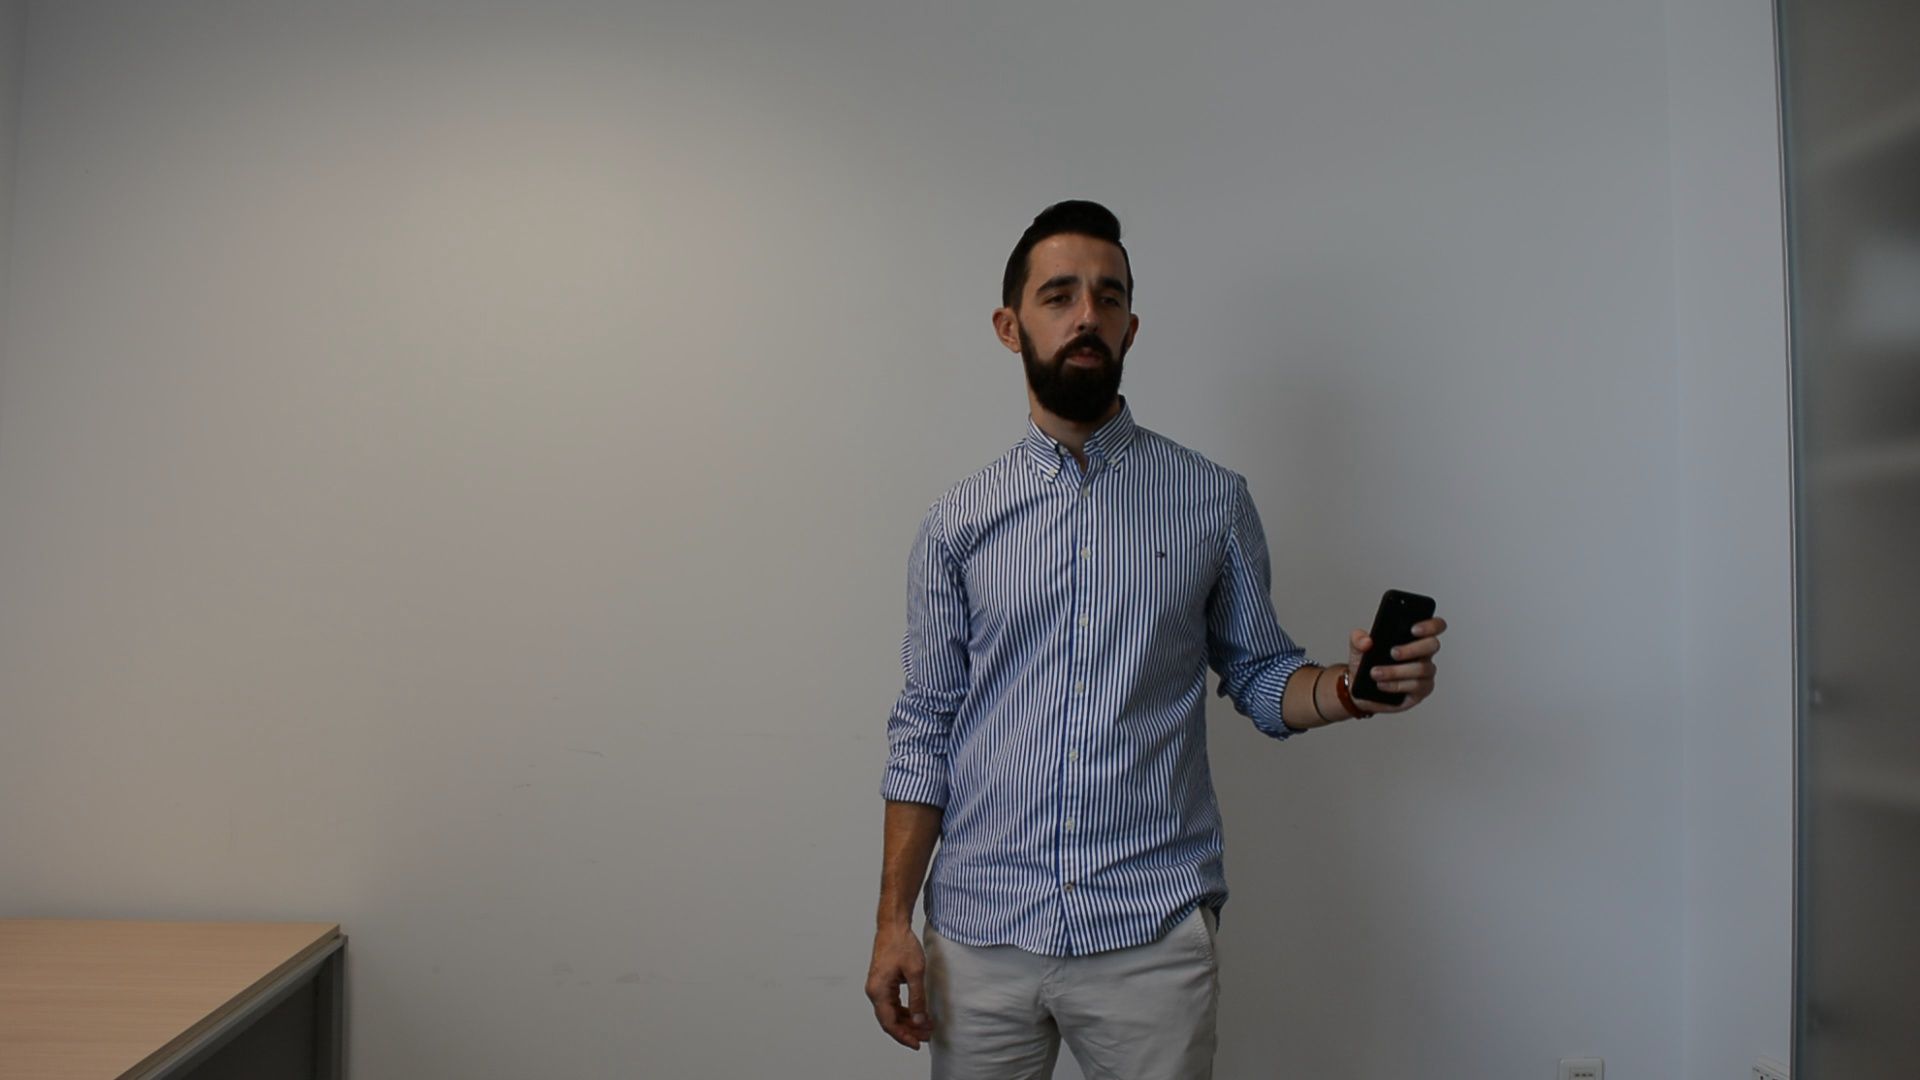smartphone: (1348, 585, 1437, 711)
